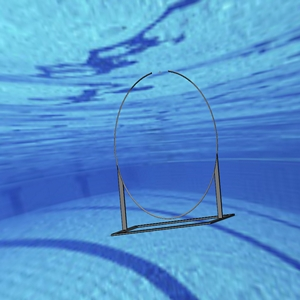circle: (112, 69, 233, 237)
